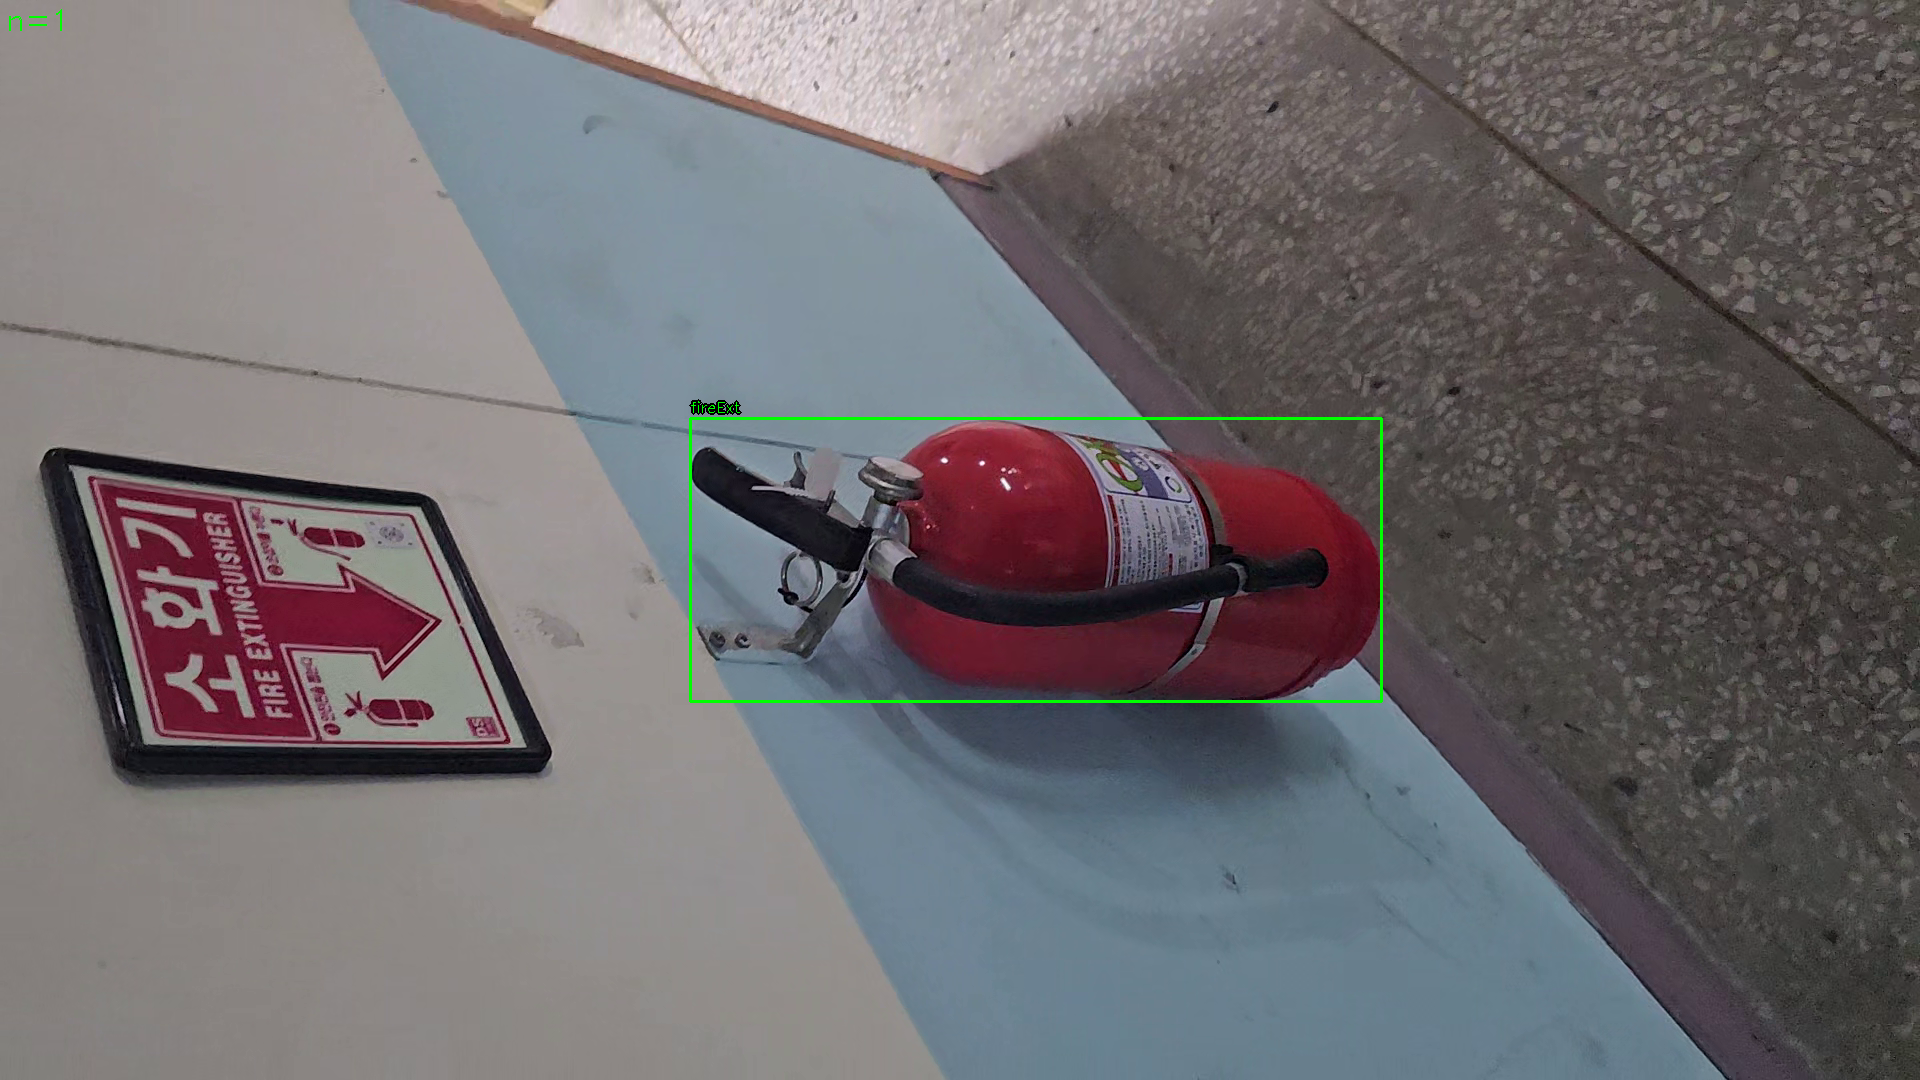lane: (690, 418, 1382, 702)
